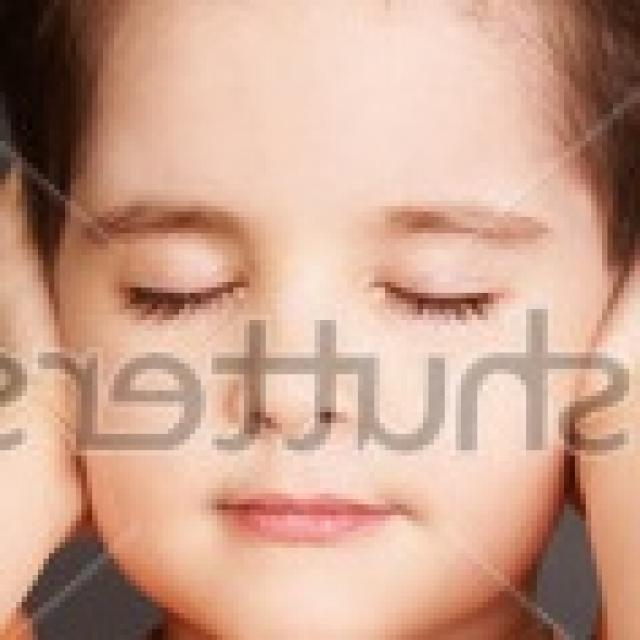close: (354, 175, 545, 344), (71, 176, 259, 338)
